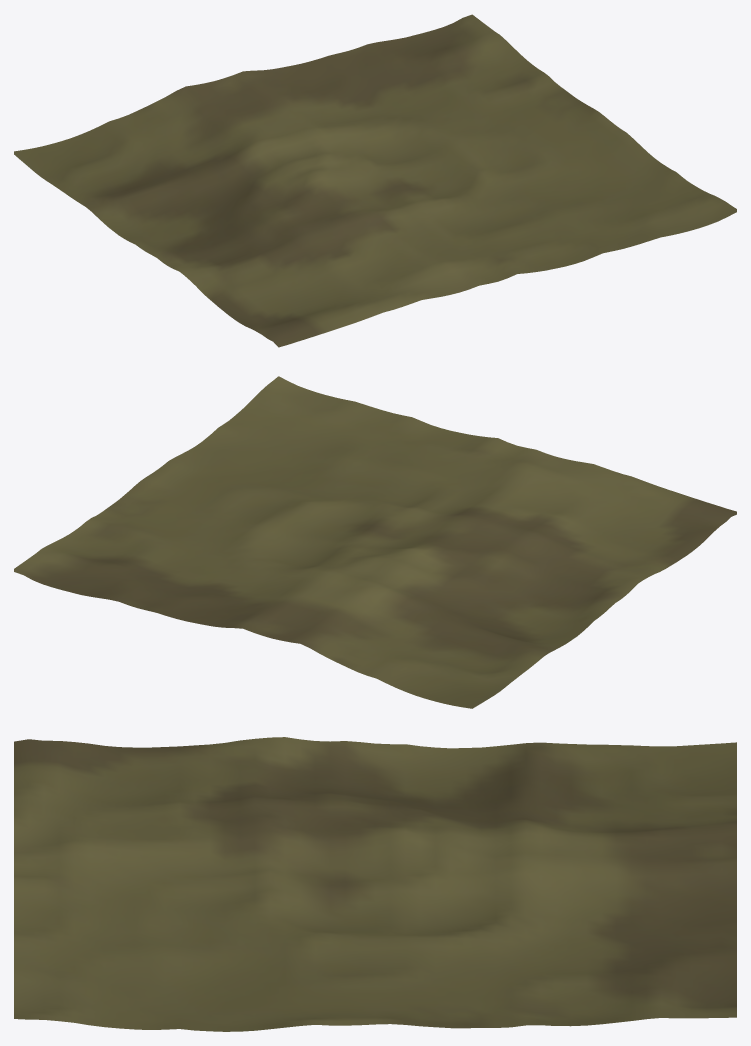
The model's file is land_m_14_08.glb.
The picture shows the model from 3 angles, top to bottom: view 1: azimuth 30°, elevation 25°; view 2: azimuth 150°, elevation 25°; view 3: azimuth 270°, elevation 25°; orthographic projection. The views are drawn at different scales.
Parts seen in each view (by area): view 1: land_m_14_08; view 2: land_m_14_08; view 3: land_m_14_08.
Boxes of the visible parts, x1,y1,x2,y2 form: land_m_14_08: (14,14,736,347); land_m_14_08: (14,376,736,708); land_m_14_08: (14,737,736,1031).
Bounding box in the file's own units: 960 × 67.8 × 960.
